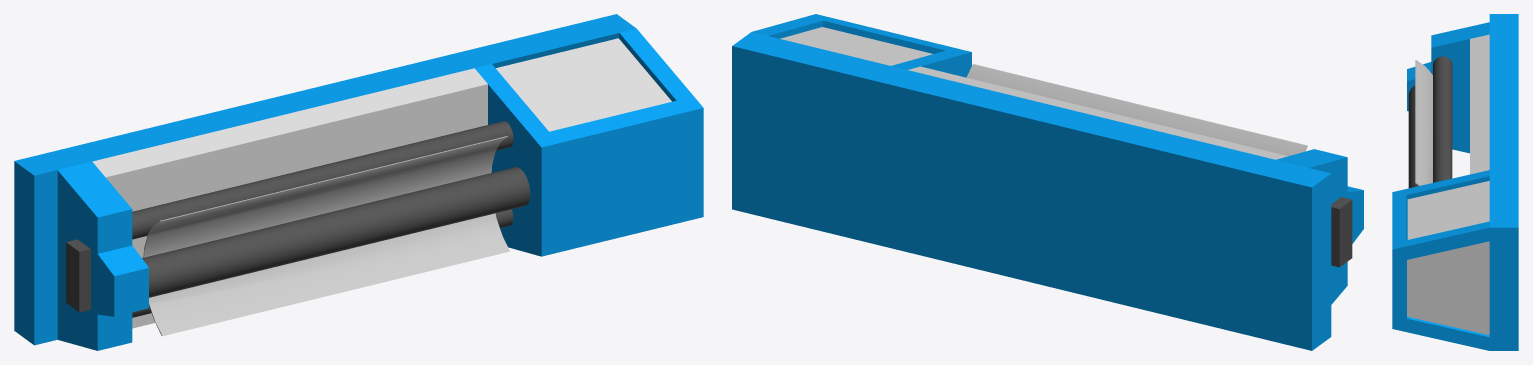
File: cnc_rolling_machine_1_state_3.dae
3 views of the same model, side by side, from view 1: azimuth 30°, elevation 25°; view 2: azimuth 150°, elevation 25°; view 3: azimuth 270°, elevation 25° (orthographic). The views are drawn at different scales.
Visible parts, largest first — view 1: coords_ME_ID11_MA_material_6, coords_ME_ID33_MA_material_11, coords_ME_ID3_MA_material_8, coords_ME_ID27_MA_material, coords_ME_ID71_MA_material_8, coords_ME_ID53_MA_material, coords_ME_ID19_MA_material; view 2: coords_ME_ID11_MA_material_6, coords_ME_ID33_MA_material_11, coords_ME_ID3_MA_material_8, coords_ME_ID71_MA_material_8, coords_ME_ID19_MA_material; view 3: coords_ME_ID11_MA_material_6, coords_ME_ID65_MA_material_8, coords_ME_ID71_MA_material_8, coords_ME_ID3_MA_material_8, coords_ME_ID53_MA_material, coords_ME_ID33_MA_material_11, coords_ME_ID27_MA_material, coords_ME_ID41_MA_material_6.
Boxes of the visible parts, x1,y1,x2,y2 form: coords_ME_ID11_MA_material_6: [14, 14, 703, 350]; coords_ME_ID33_MA_material_11: [143, 136, 509, 336]; coords_ME_ID3_MA_material_8: [92, 68, 487, 328]; coords_ME_ID27_MA_material: [142, 167, 530, 297]; coords_ME_ID71_MA_material_8: [496, 38, 671, 131]; coords_ME_ID53_MA_material: [132, 121, 513, 239]; coords_ME_ID19_MA_material: [66, 239, 90, 312]; coords_ME_ID11_MA_material_6: [732, 14, 1363, 350]; coords_ME_ID33_MA_material_11: [966, 64, 1307, 156]; coords_ME_ID3_MA_material_8: [908, 66, 1287, 159]; coords_ME_ID71_MA_material_8: [780, 27, 932, 65]; coords_ME_ID19_MA_material: [1331, 197, 1352, 267]; coords_ME_ID11_MA_material_6: [1392, 14, 1518, 350]; coords_ME_ID65_MA_material_8: [1407, 241, 1489, 335]; coords_ME_ID71_MA_material_8: [1407, 181, 1489, 239]; coords_ME_ID3_MA_material_8: [1470, 34, 1489, 174]; coords_ME_ID53_MA_material: [1433, 56, 1452, 182]; coords_ME_ID33_MA_material_11: [1415, 60, 1432, 185]; coords_ME_ID27_MA_material: [1408, 85, 1418, 188]; coords_ME_ID41_MA_material_6: [1407, 316, 1489, 337].
Bounding box in the file's own units: 65.51 × 17.64 × 16.38.
